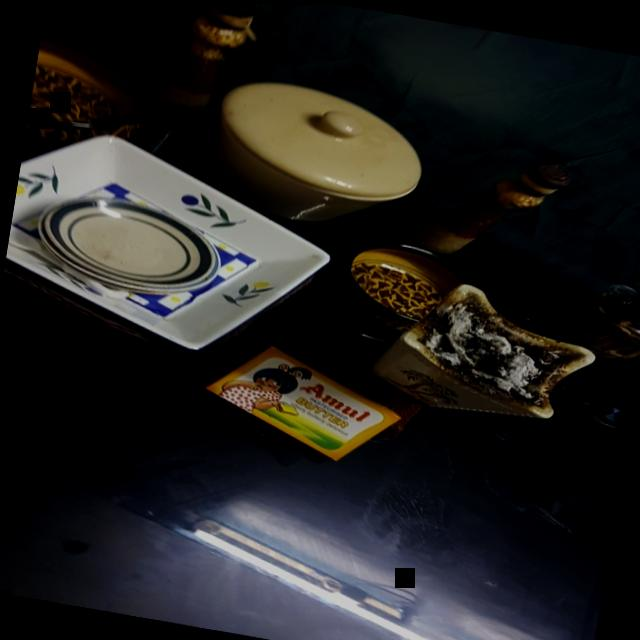butter: (199, 331, 410, 471)
